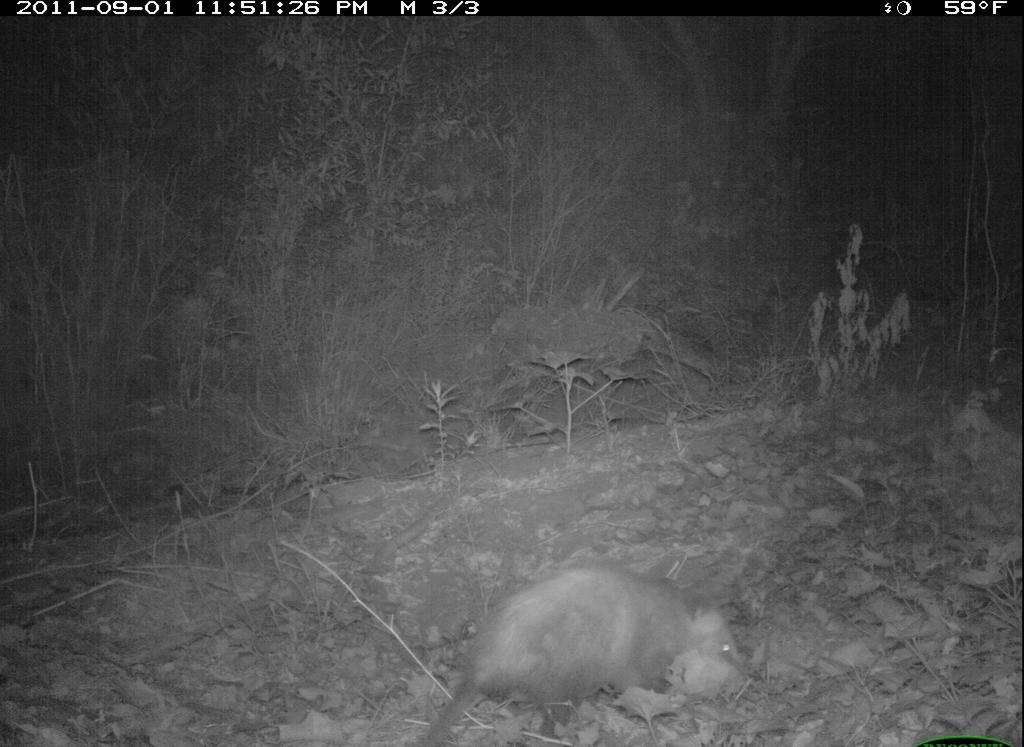opossum: (391, 556, 774, 747)
